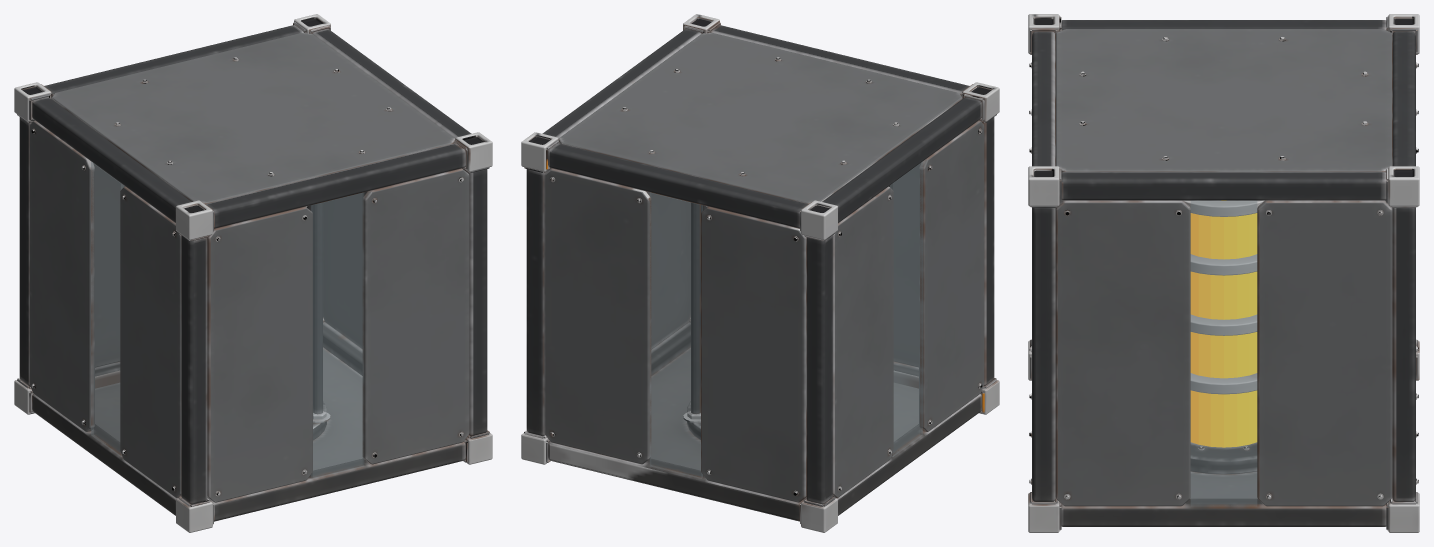
The model's file is SM_ShipCore.glb.
3 views of the same model, side by side, from view 1: azimuth 30°, elevation 25°; view 2: azimuth 150°, elevation 25°; view 3: azimuth 270°, elevation 25° (orthographic). The views are drawn at different scales.
Parts seen in each view (by area): view 1: SM_ShipCore; view 2: SM_ShipCore; view 3: SM_ShipCore, SM_ShipCore_Rings.
Boxes of the visible parts, x1=… form: SM_ShipCore: x1=14, y1=14, x2=492, y2=532; SM_ShipCore: x1=521, y1=14, x2=999, y2=532; SM_ShipCore: x1=1028, y1=14, x2=1419, y2=532; SM_ShipCore_Rings: x1=1183, y1=200, x2=1264, y2=394.
Size of the model in its own units: 2 by 2 by 2.
7 materials, 5 textured.
